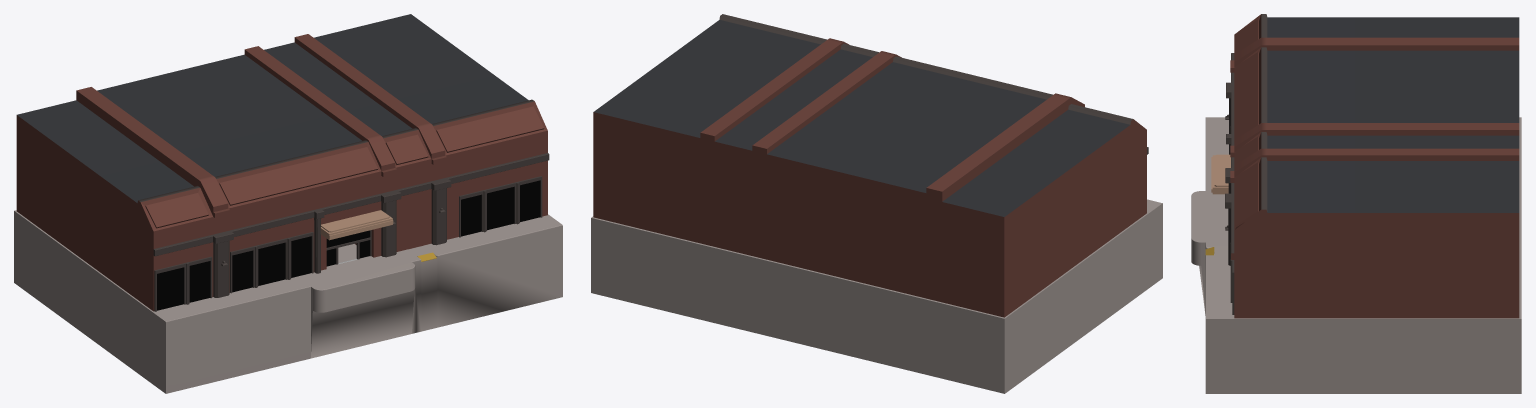
The model's file is supermarket_building.fbx.
The picture shows the model from 3 angles, left to right: view 1: azimuth 30°, elevation 25°; view 2: azimuth 150°, elevation 25°; view 3: azimuth 270°, elevation 25°; orthographic projection. The views are drawn at different scales.
Visible parts, largest first — view 1: building, sidewalk1, window1, window2, window3, pCube29, doorway; view 2: building, sidewalk1; view 3: building, sidewalk1, pCube29.
Part boxes in pixels (left/top/right/bottom): building: left=16, top=14, right=549, bottom=311; sidewalk1: left=14, top=210, right=562, bottom=393; window1: left=230, top=232, right=313, bottom=293; window2: left=459, top=176, right=542, bottom=237; window3: left=154, top=256, right=212, bottom=311; pCube29: left=320, top=210, right=393, bottom=240; doorway: left=326, top=230, right=371, bottom=266; building: left=593, top=14, right=1148, bottom=317; sidewalk1: left=591, top=199, right=1162, bottom=393; building: left=1225, top=14, right=1519, bottom=318; sidewalk1: left=1191, top=117, right=1521, bottom=393; pCube29: left=1211, top=154, right=1230, bottom=194.
Size of the model in its own units: 222 by 95.32 by 154.
